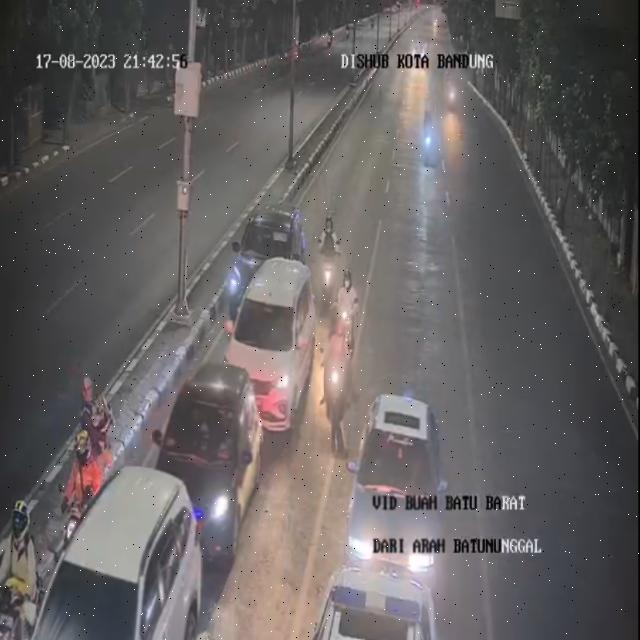cars: (32, 468, 203, 640), (350, 391, 452, 638), (152, 360, 259, 564), (224, 258, 315, 436), (301, 556, 440, 638), (239, 201, 305, 293)
motorcycle: (0, 499, 45, 639), (62, 434, 106, 541), (324, 305, 352, 428), (320, 214, 346, 312), (338, 266, 362, 366), (419, 108, 436, 165), (444, 76, 460, 114)
